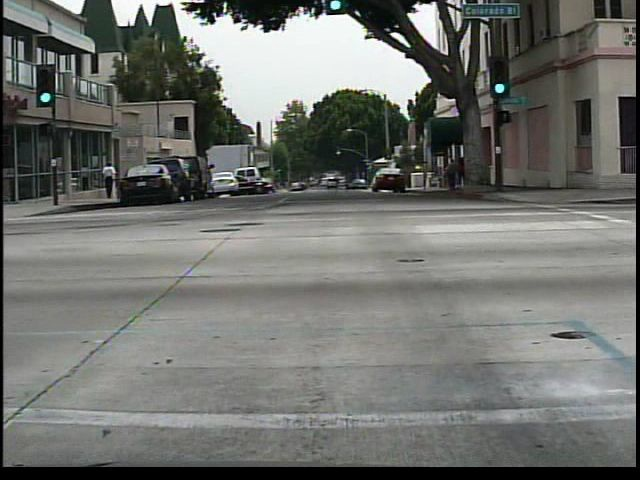person: (451, 151, 476, 199), (101, 154, 120, 200), (442, 159, 460, 193)
